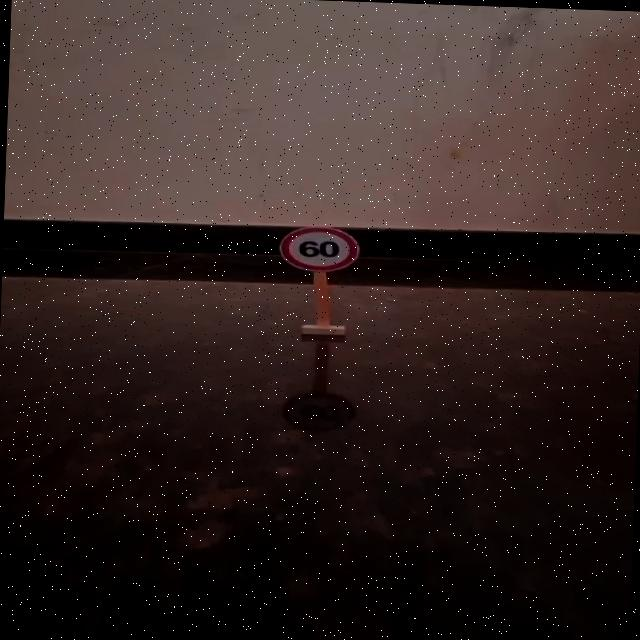Speed60: (276, 222, 363, 274)
